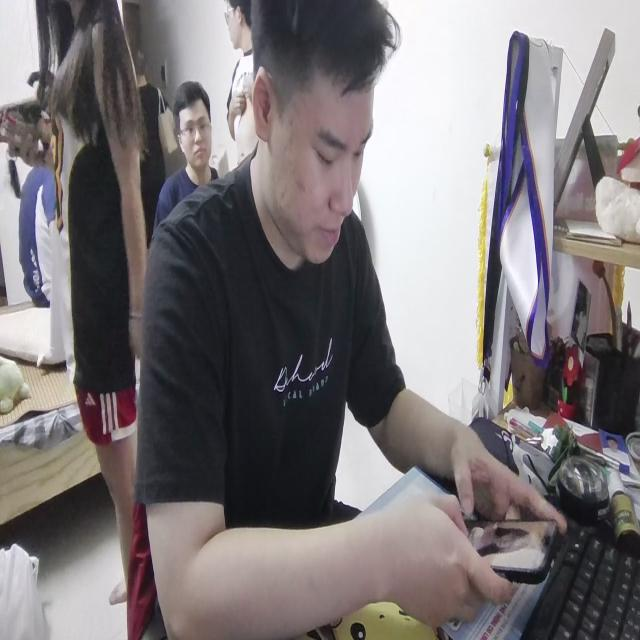extra_person: (18, 0, 160, 636), (152, 87, 223, 215), (222, 0, 263, 163)
phone: (462, 518, 558, 582)
student: (130, 0, 566, 640)
